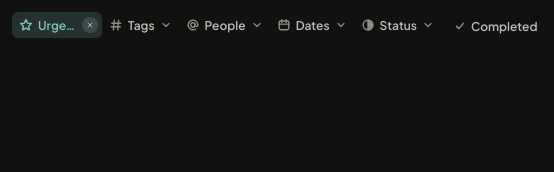
it: FilterChipBar — primitive › desktop density › valueWidths: a cut value whose tooltip already spells it out keeps that tooltip
Hover over the button with aria-label "Priority filter: Urgent, not Important" at (47, 25), box [12,12,82,38]
Wait 400 ms
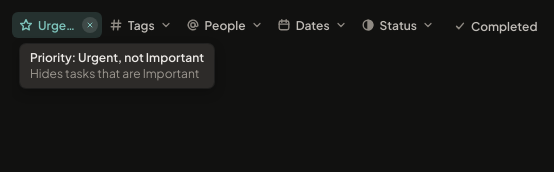
Now the tooltip shows "Hides tasks that are Important", box [30,66,200,81]
